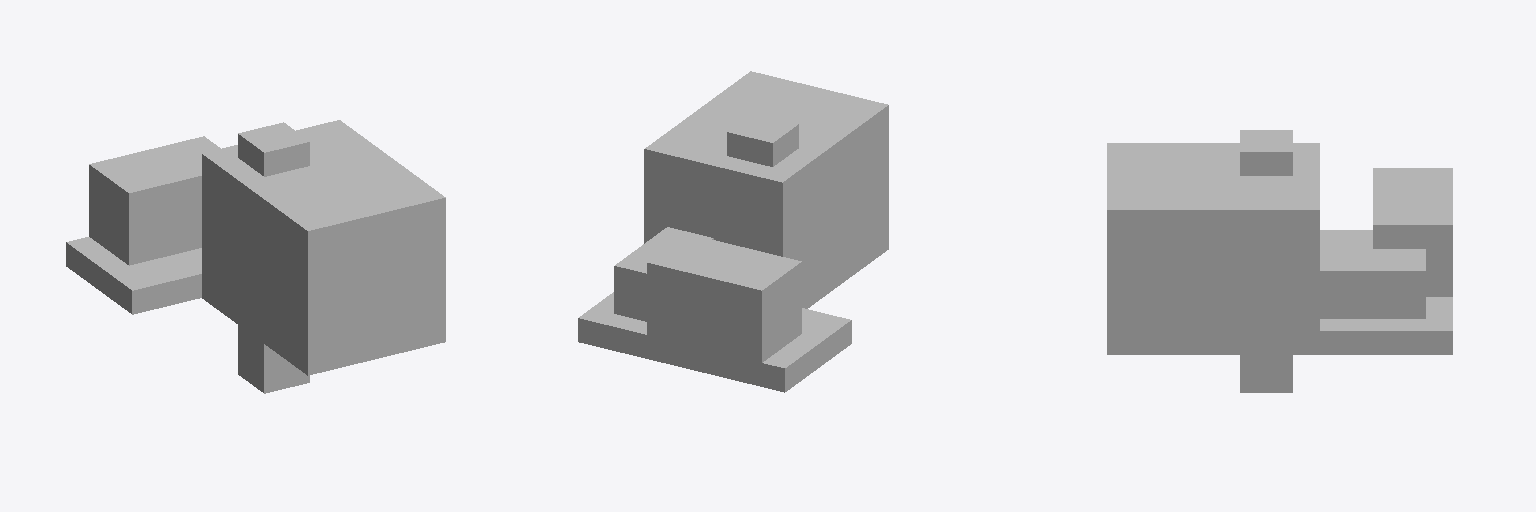
The model's file is silicon_crucible_spinner.obj.
3 views of the same model, side by side, from view 1: azimuth 30°, elevation 25°; view 2: azimuth 150°, elevation 25°; view 3: azimuth 270°, elevation 25° (orthographic).
Parts seen in each view (by area): view 1: cube; view 2: cube; view 3: cube.
Part boxes in pixels (bbox=[...]): cube: bbox=[66, 120, 445, 393]; cube: bbox=[578, 71, 888, 392]; cube: bbox=[1107, 130, 1452, 392].
Bounding box in the file's own units: 0.5625 × 0.625 × 0.8125.